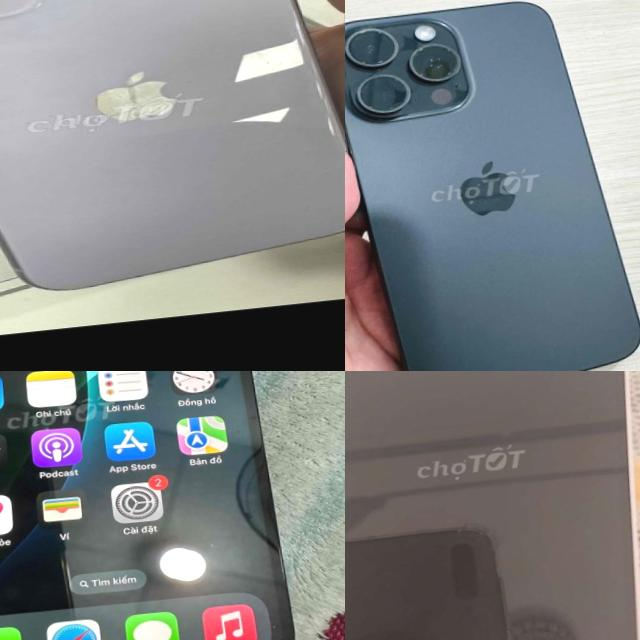gen_11: (0, 0, 345, 307)
gen_12_13: (0, 371, 304, 640), (345, 371, 640, 640)
gen_15: (345, 0, 640, 371)
